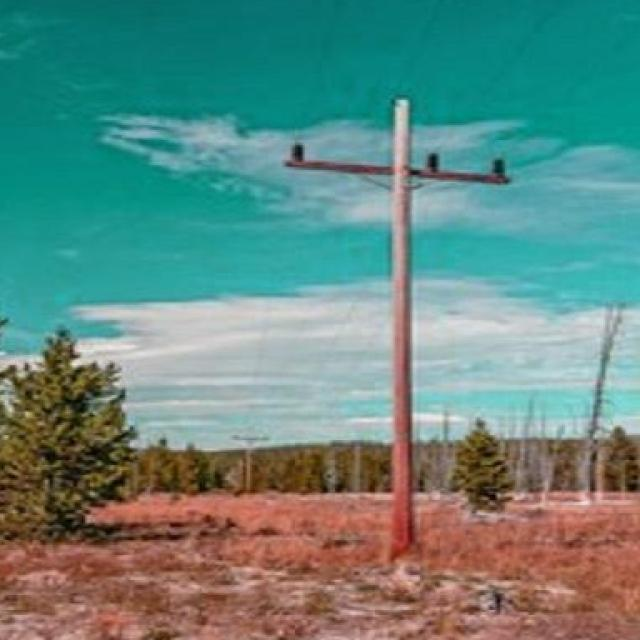non-critical vegetation: (280, 76, 522, 548)
